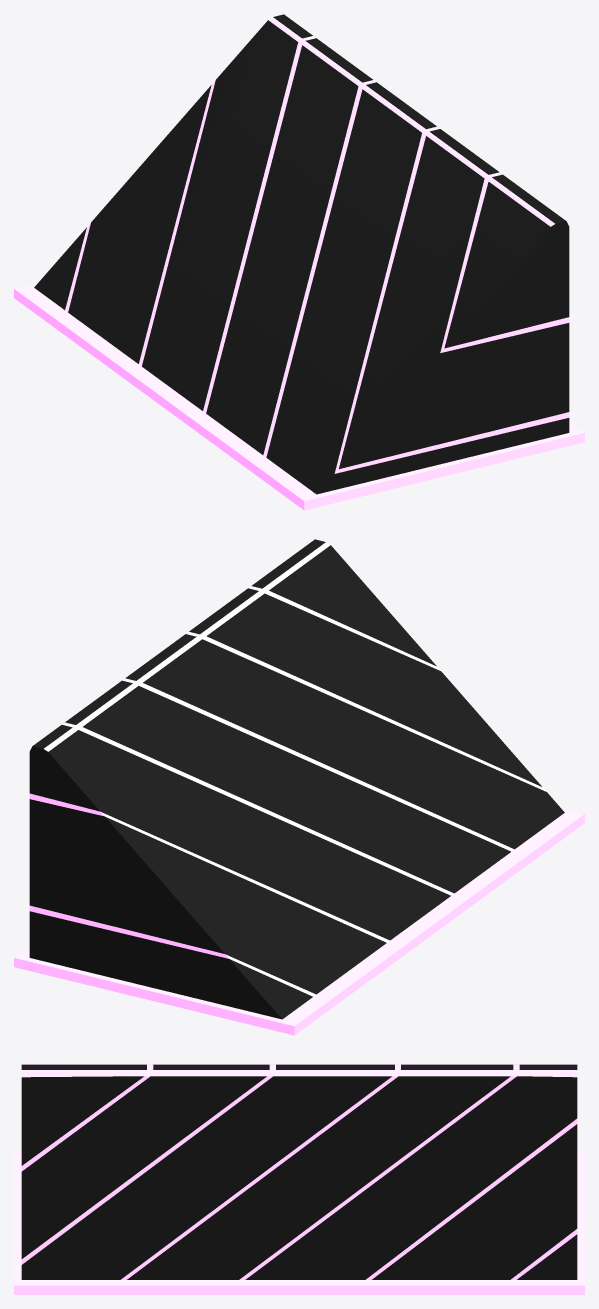
Rendered from fence.FBX.
The picture shows the model from 3 angles, top to bottom: view 1: azimuth 30°, elevation 25°; view 2: azimuth 150°, elevation 25°; view 3: azimuth 270°, elevation 25°; orthographic projection.
Parts seen in each view (by area): view 1: Box058; view 2: Box058; view 3: Box058.
Boxes of the visible parts, left/top/right/bottom form: Box058: left=14, top=14, right=584, bottom=510; Box058: left=14, top=539, right=584, bottom=1035; Box058: left=14, top=1064, right=584, bottom=1294.
Bounding box in the file's own units: 24.64 × 18.59 × 44.15.
